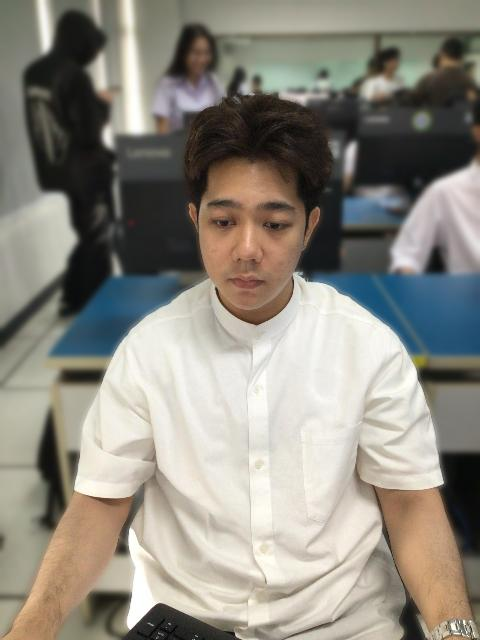fokus: (188, 102, 326, 309)
